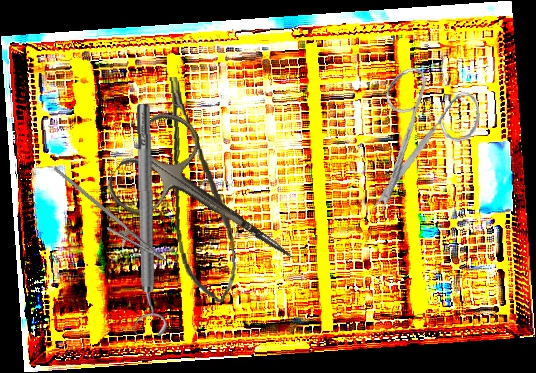Fixation Ring: (125, 103, 169, 337)
Iris Scissors: (100, 103, 322, 304), (349, 58, 495, 218)
Micro Scissor: (162, 72, 241, 306)
Needle Holder: (37, 166, 177, 272)
